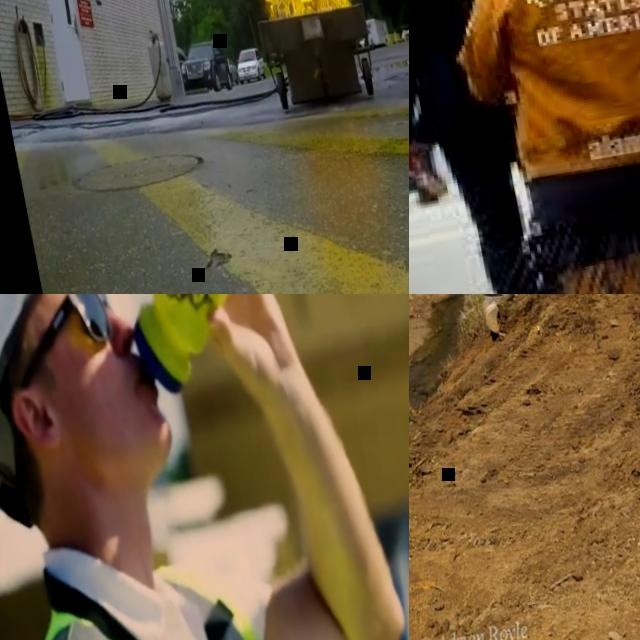Hardhat: (0, 294, 140, 513)
NO-Mask: (0, 339, 179, 501)
NO-Safety Vest: (469, 0, 640, 170), (409, 0, 553, 131)
Person: (0, 294, 409, 640), (409, 0, 630, 294), (434, 0, 640, 294), (409, 0, 472, 217)
Safety Vest: (0, 529, 297, 640)
vehicle: (175, 36, 231, 96), (232, 45, 266, 84), (354, 29, 373, 51), (175, 45, 186, 71), (226, 58, 237, 84)
